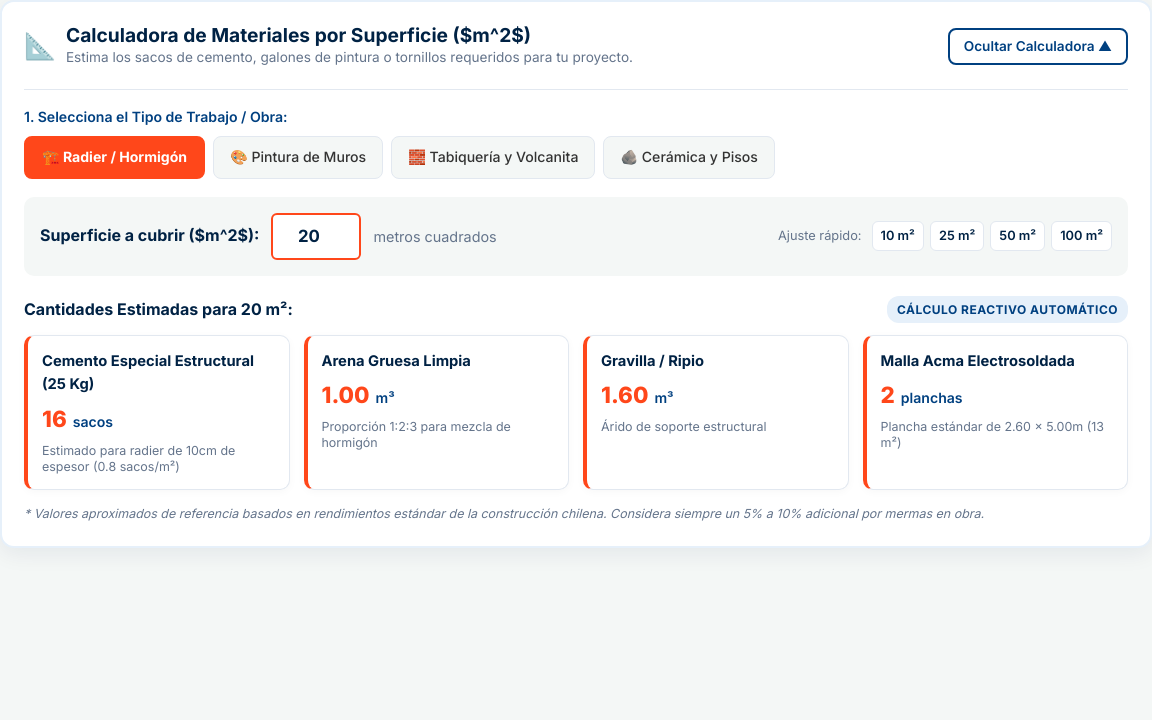
Test: Nuevas Funcionalidades: Control de Stock, Calculadora de Materiales y Despacho › debe calcular reactivamente los materiales de construcción según los m² ingresados
Check: the heading "Calculadora de Materiales por Superficie ($m^2$)" is shown, box [66,23,531,47]
Check: the text "16" is shown, box [42,401,67,437]
# Cambiar a Pintura
Click the button "🎨 Pintura de Muros" at (298, 158), box [213,136,383,179]
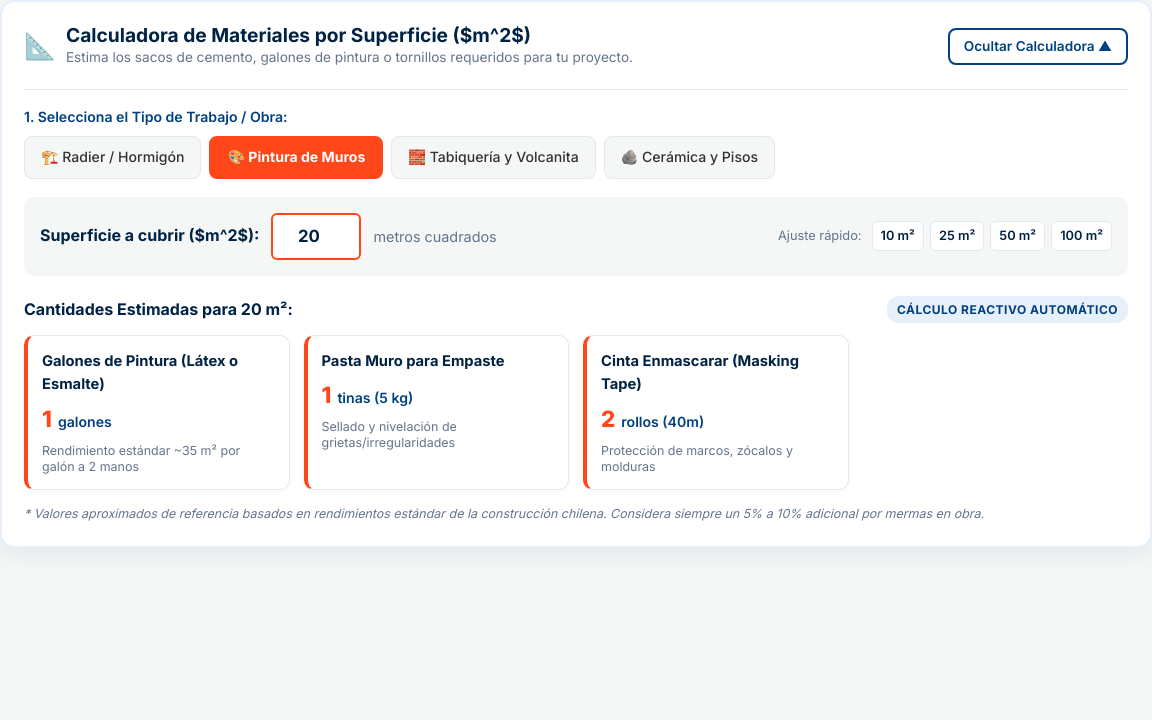
Check: the text "Galones de Pintura (Látex o Esmalte)" is shown, box [42,352,238,393]
